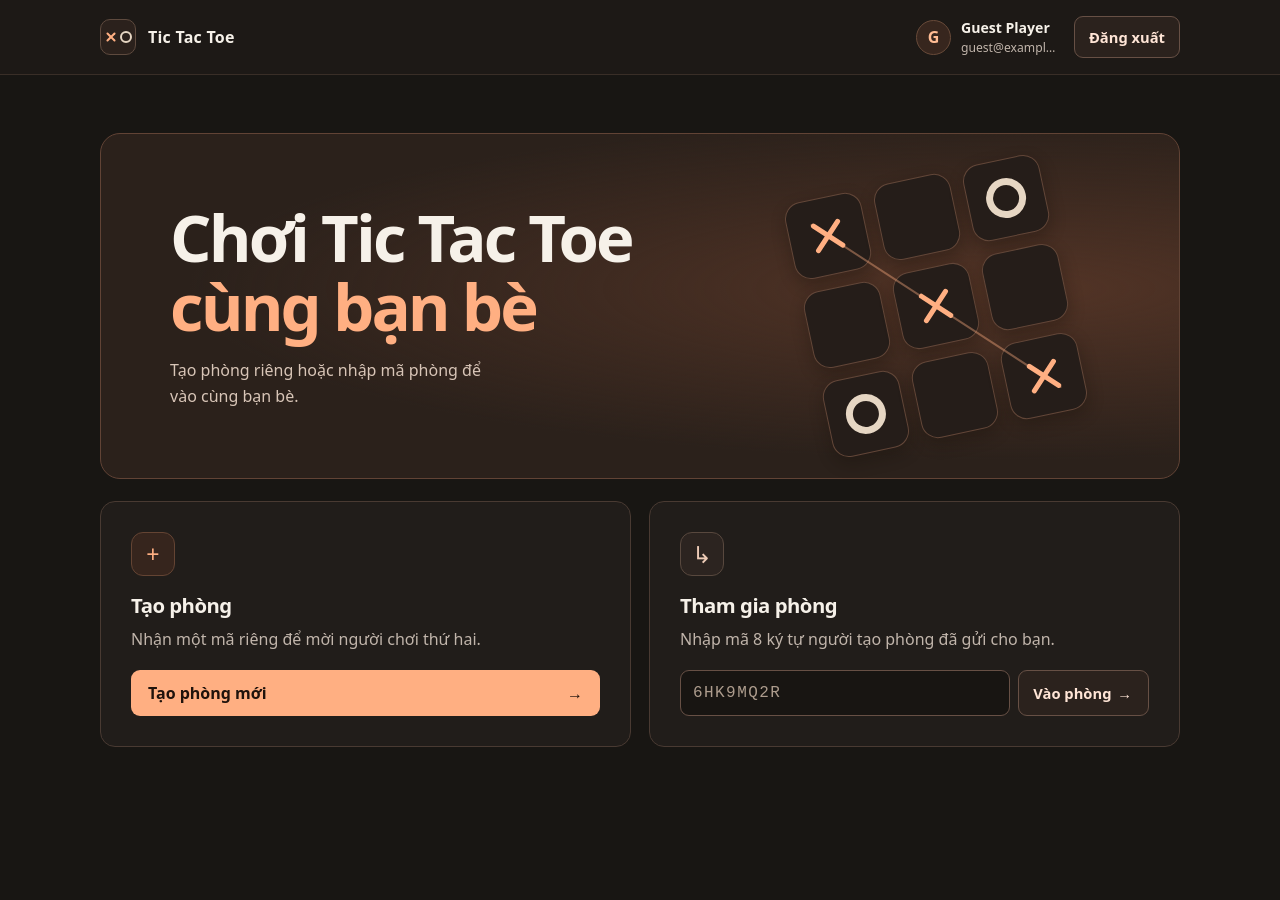
Test: Tham gia phòng chơi › không gọi API với mã sai định dạng
Type "I0ABCD23" into the field named "Mã phòng" at x=845, y=694, box [680,670,1010,716]
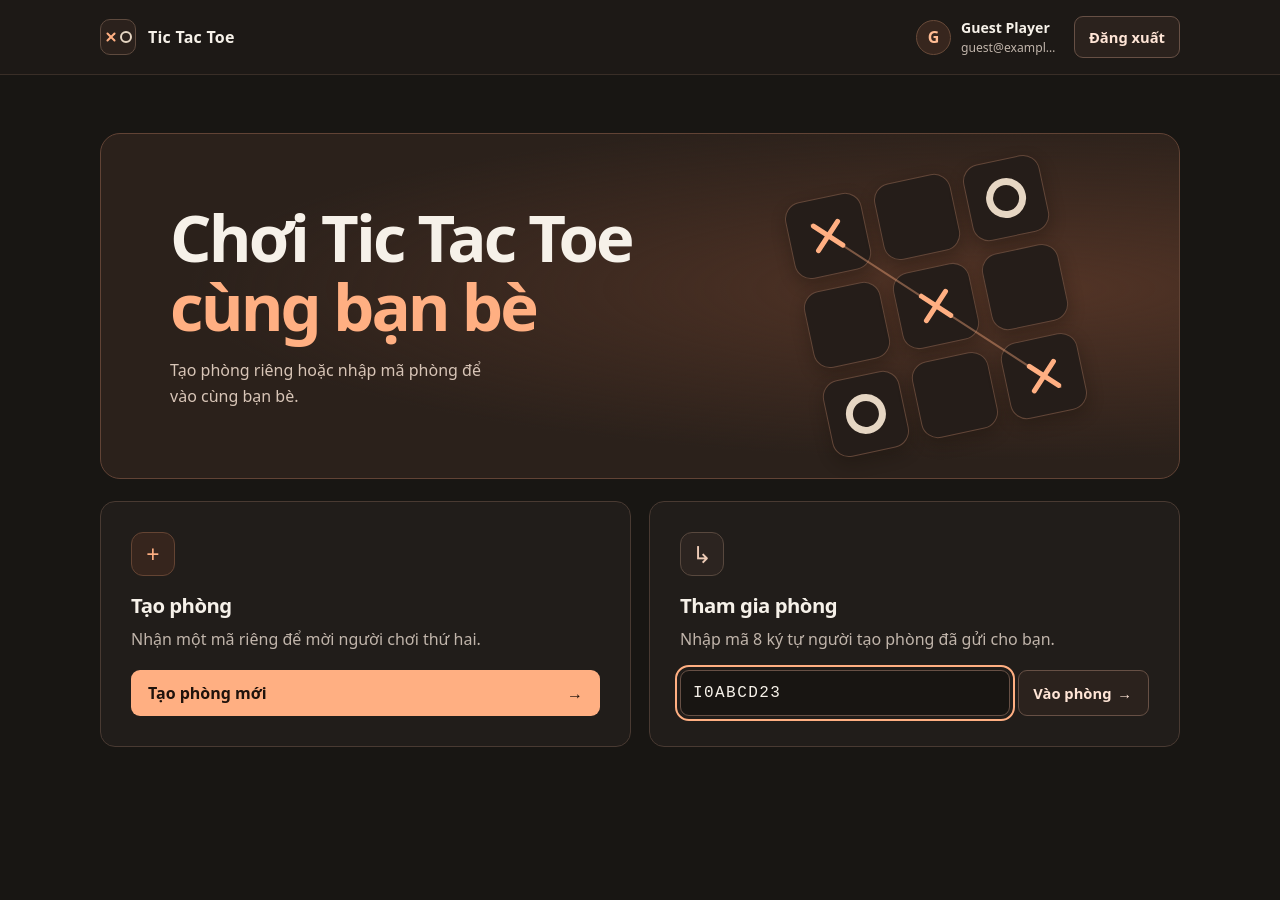
Click the button "Vào phòng →" at x=1084, y=694, box [1018,670,1149,716]
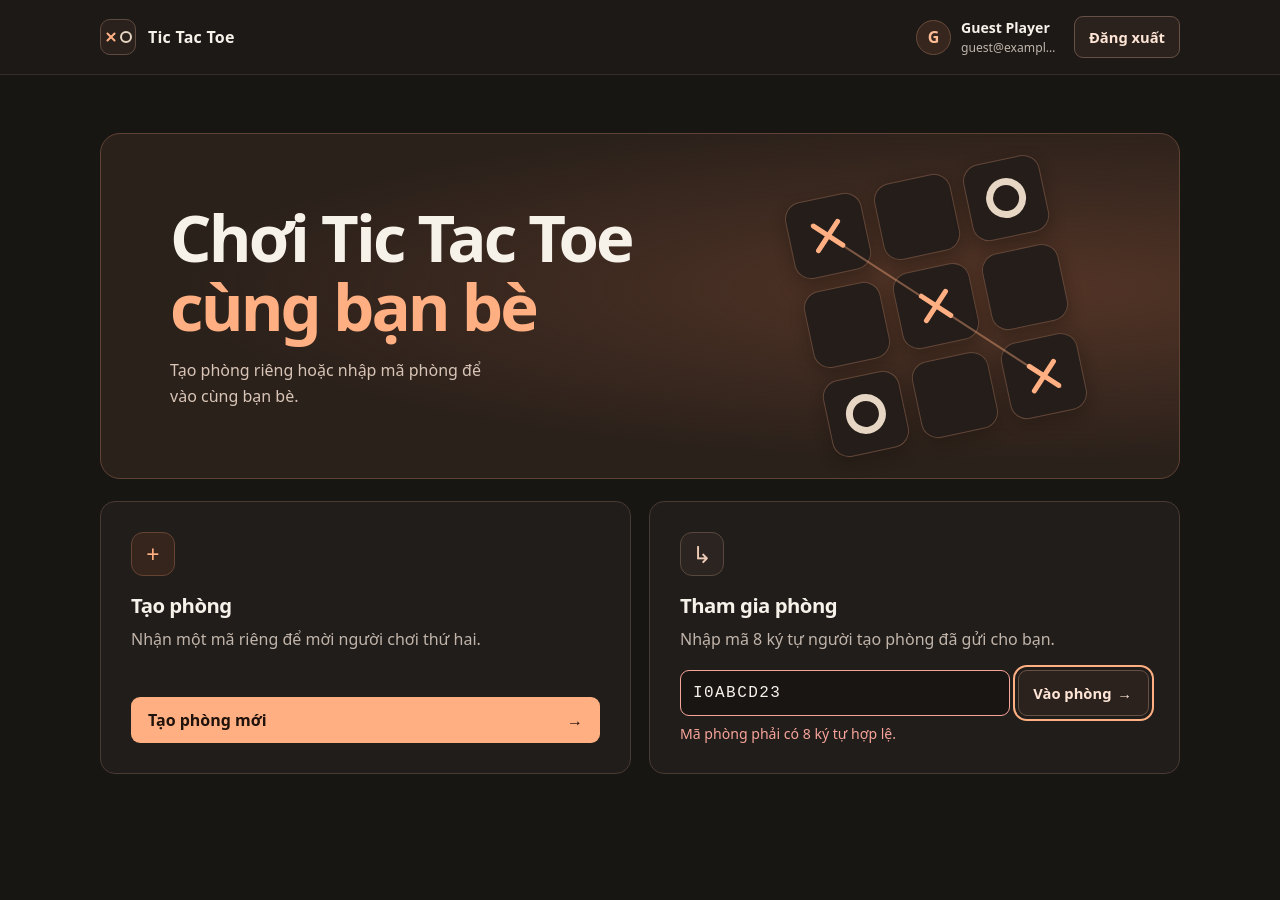
expect the message reads "Mã phòng phải có 8 ký tự hợp lệ.": met, box [680,724,896,744]
